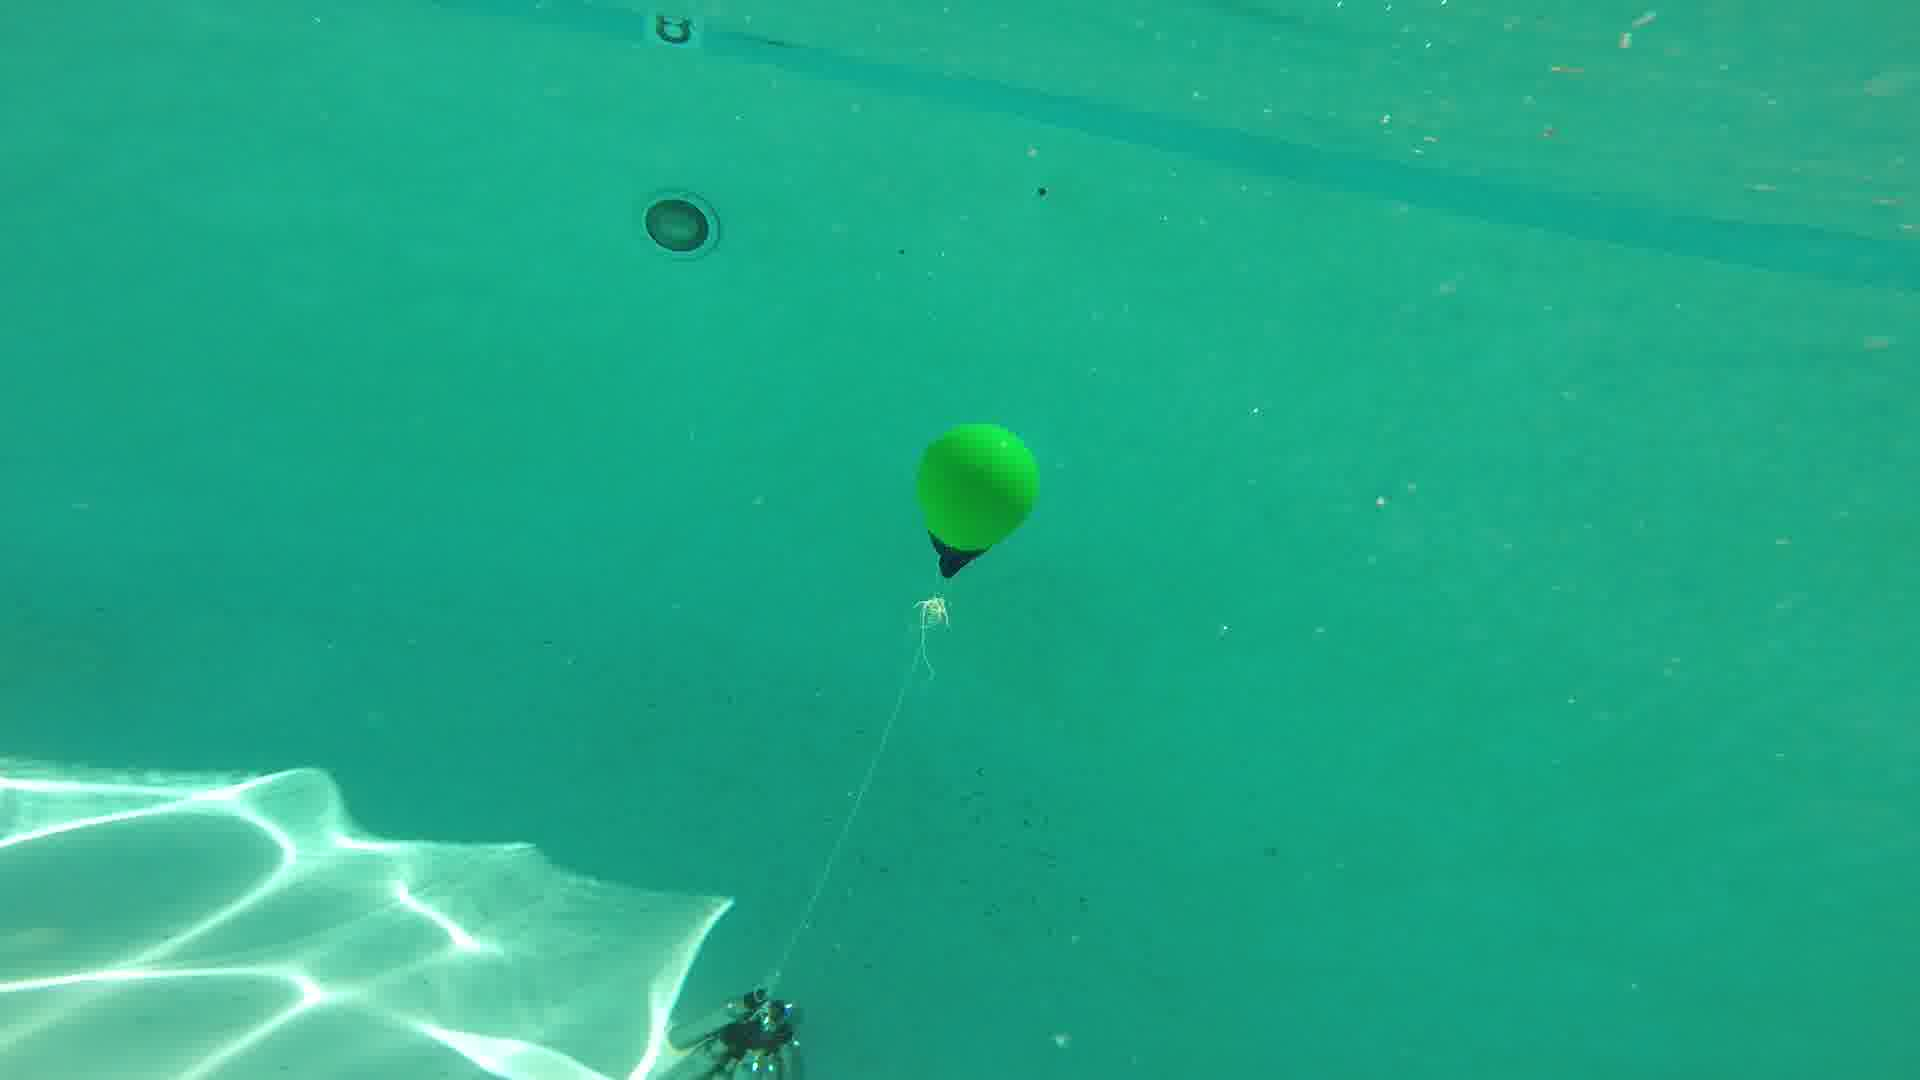yellow_buoy: (918, 421, 1040, 578)
